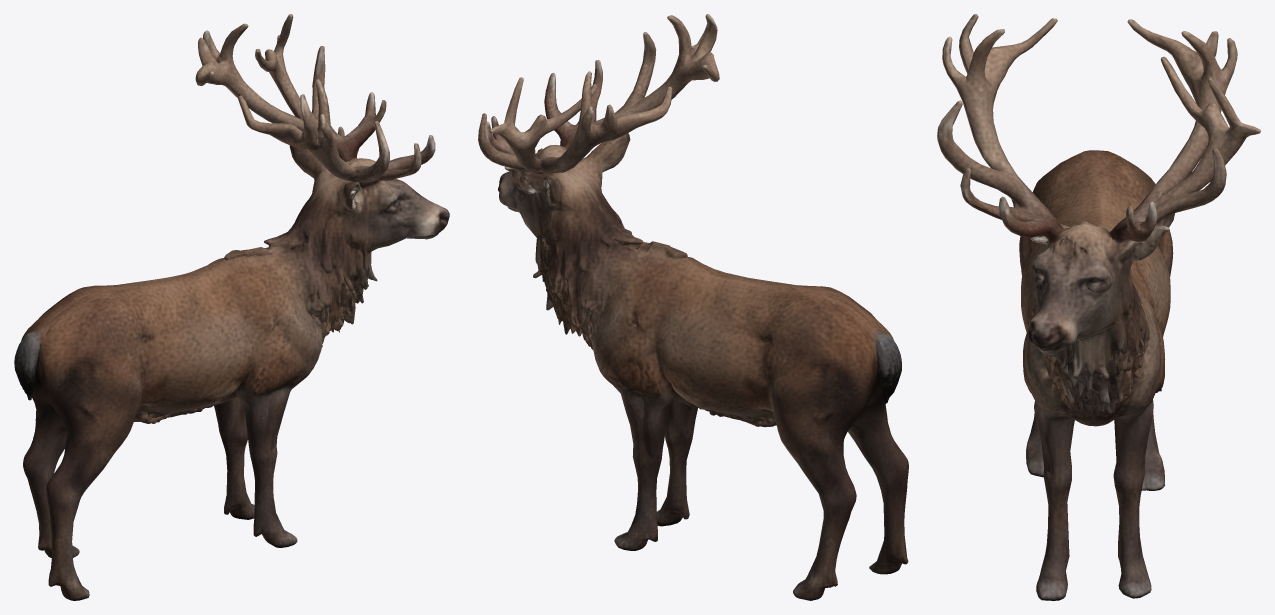
The model's file is red-deer-stag-v21-lod.glb.
3 renders of one model, left to right at view 1: azimuth 30°, elevation 25°; view 2: azimuth 150°, elevation 25°; view 3: azimuth 270°, elevation 25°, orthographic. The views are drawn at different scales.
Parts seen in each view (by area): view 1: geometry_0; view 2: geometry_0; view 3: geometry_0.
Boxes of the visible parts, <box> form: geometry_0: <box>14,14,449,600</box>; geometry_0: <box>478,14,908,600</box>; geometry_0: <box>937,14,1260,600</box>.
Bounding box in the file's own units: 2.5 × 2.77 × 1.41.
Materials: 1 (1 with a texture image).
